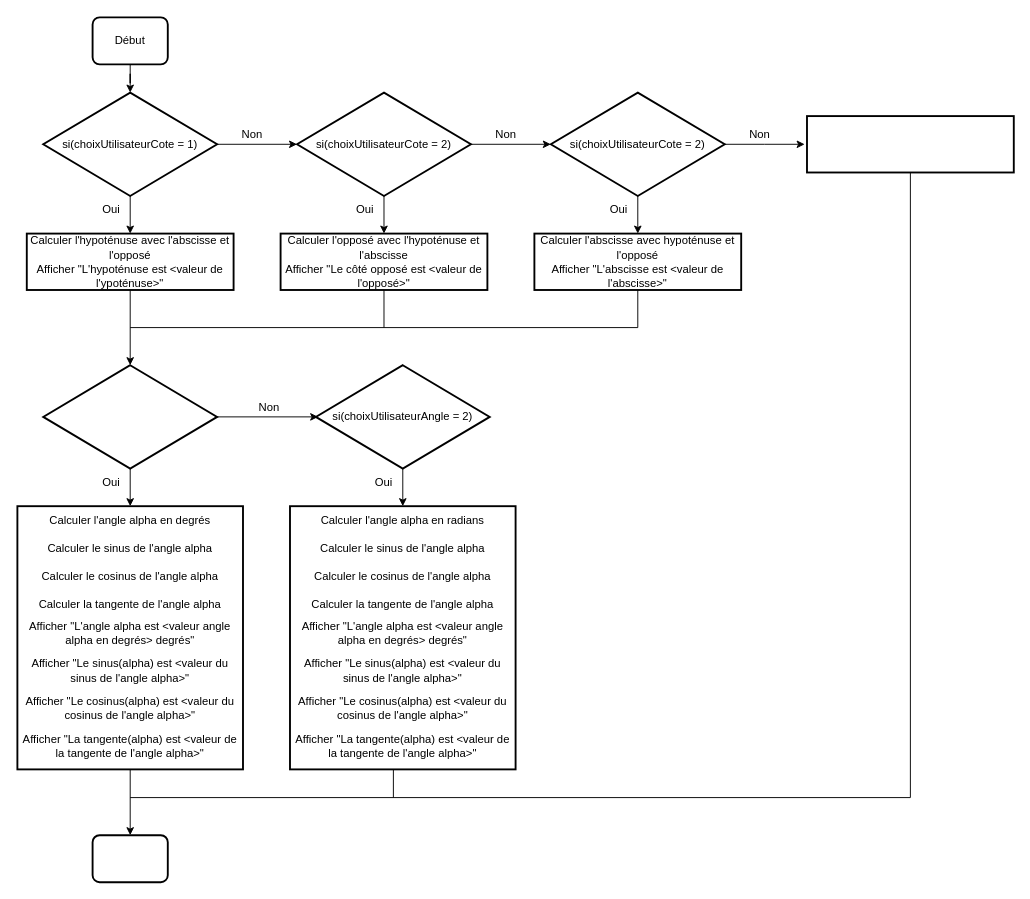
This 1030x899 diagram has some shape labels left out. The shapes that lost their labels are listed below. From the top down, each one's centre as x and y in pixels, then its label:
(x=910, y=144): Afficher "Erreur : Paramètres inconnus.
(x=130, y=416): si(choixUtilisateurAngle = 1)
(x=129, y=858): Fin
